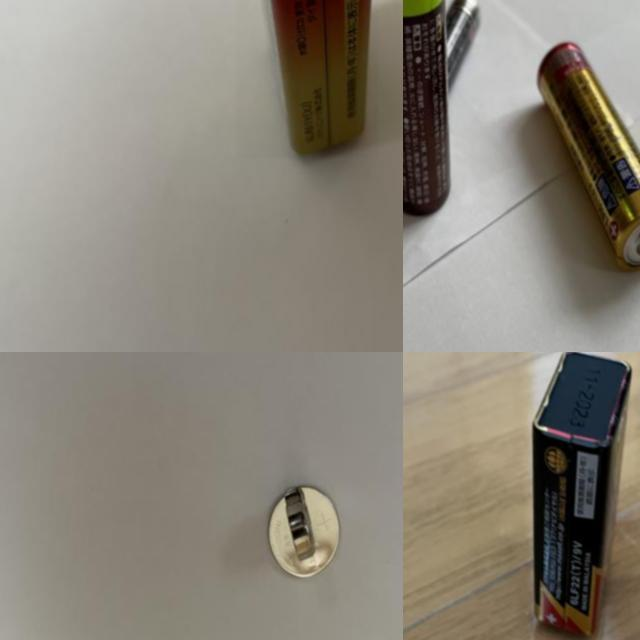9V: (530, 352, 631, 633), (236, 0, 378, 158)
